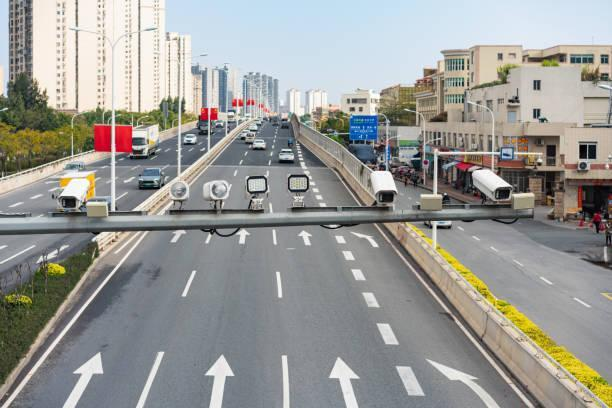camera: (356, 160, 405, 223), (464, 164, 519, 210), (46, 172, 98, 218), (199, 171, 233, 222), (166, 176, 191, 219)
